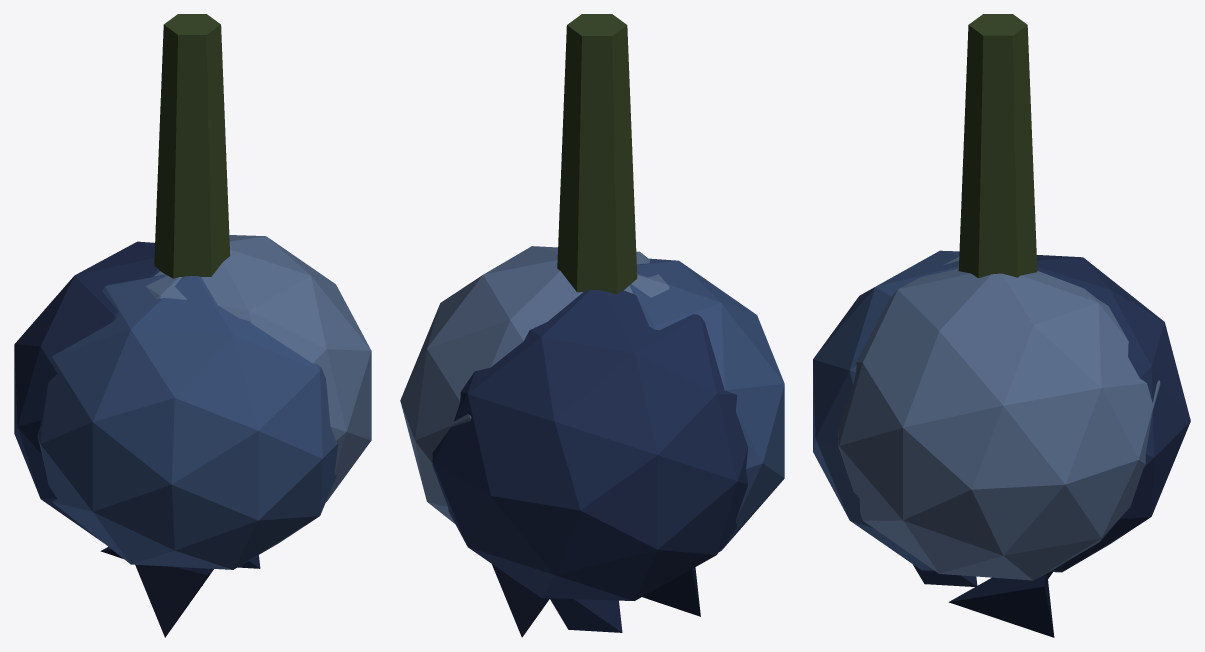
File: juniper_berry.glb
3 views of the same model, side by side, from view 1: azimuth 30°, elevation 25°; view 2: azimuth 150°, elevation 25°; view 3: azimuth 270°, elevation 25° (orthographic). The views are drawn at different scales.
Parts seen in each view (by area): view 1: Juniperus_communis_ripe_berry_cone; view 2: Juniperus_communis_ripe_berry_cone; view 3: Juniperus_communis_ripe_berry_cone.
Part boxes in pixels (left/top/right/bottom): Juniperus_communis_ripe_berry_cone: left=14, top=14, right=371, bottom=637; Juniperus_communis_ripe_berry_cone: left=400, top=14, right=784, bottom=637; Juniperus_communis_ripe_berry_cone: left=813, top=14, right=1190, bottom=637.
Bounding box in the file's own units: 0.00833 × 0.0143 × 0.00829.
